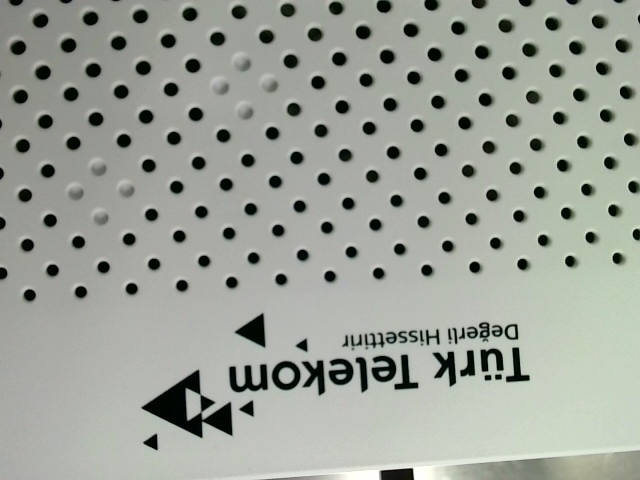AQ_TURKTelekom: (129, 305, 535, 451)
